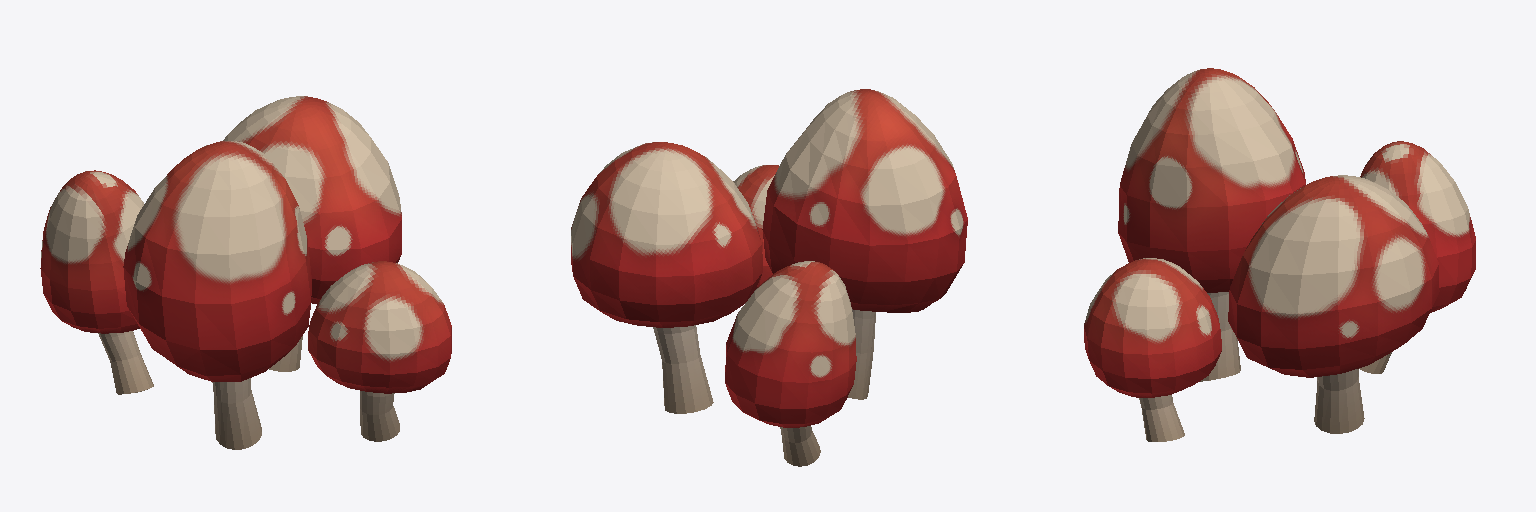
3 views of the same model, side by side, from view 1: azimuth 30°, elevation 25°; view 2: azimuth 150°, elevation 25°; view 3: azimuth 270°, elevation 25° (orthographic).
Visible parts, largest first — view 1: Shroom_P, Shroom_O, Shroom_Q, Shroom_N; view 2: Shroom_P, Shroom_O, Shroom_N, Shroom_Q; view 3: Shroom_O, Shroom_P, Shroom_Q, Shroom_N.
Boxes of the visible parts, x1=… form: Shroom_P: x1=123, y1=141, x2=311, y2=449; Shroom_O: x1=223, y1=96, x2=401, y2=371; Shroom_Q: x1=308, y1=261, x2=451, y2=441; Shroom_N: x1=40, y1=170, x2=153, y2=394; Shroom_P: x1=762, y1=89, x2=967, y2=399; Shroom_O: x1=571, y1=142, x2=762, y2=413; Shroom_N: x1=725, y1=261, x2=856, y2=466; Shroom_Q: x1=733, y1=165, x2=778, y2=288; Shroom_O: x1=1228, y1=175, x2=1439, y2=433; Shroom_P: x1=1118, y1=68, x2=1305, y2=381; Shroom_Q: x1=1084, y1=258, x2=1221, y2=441; Shroom_N: x1=1359, y1=141, x2=1475, y2=373.
Bounding box in the file's own units: 6.68 × 6.25 × 7.27.
1 materials, 1 textured.